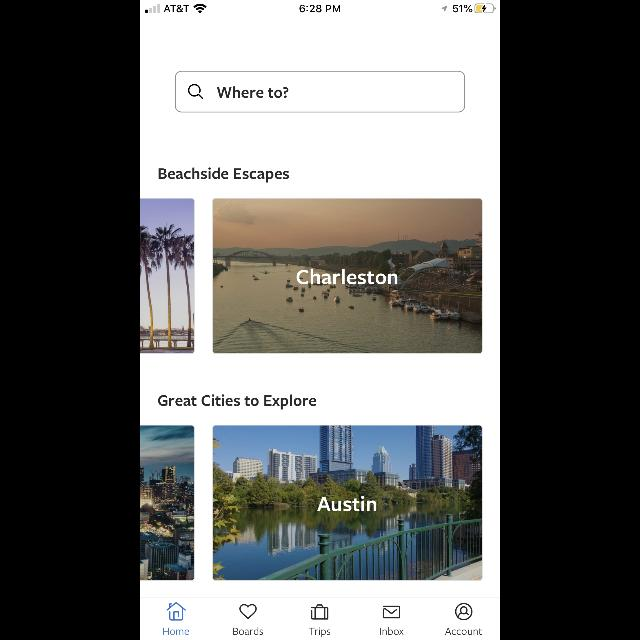icon: (167, 602, 186, 620), (456, 604, 472, 620), (312, 604, 328, 620), (188, 84, 204, 100), (240, 604, 256, 618), (384, 606, 401, 618)
image: (213, 425, 483, 581), (213, 198, 483, 354), (141, 425, 195, 581), (141, 198, 195, 354)
input: (175, 71, 465, 113)
text: (160, 394, 316, 410), (159, 168, 289, 182), (296, 269, 398, 285), (318, 495, 377, 511), (217, 88, 289, 99), (444, 628, 482, 634), (234, 627, 262, 635), (310, 628, 330, 636), (164, 628, 188, 634), (381, 628, 404, 634)
uppertaskbar: (140, 0, 500, 14)
